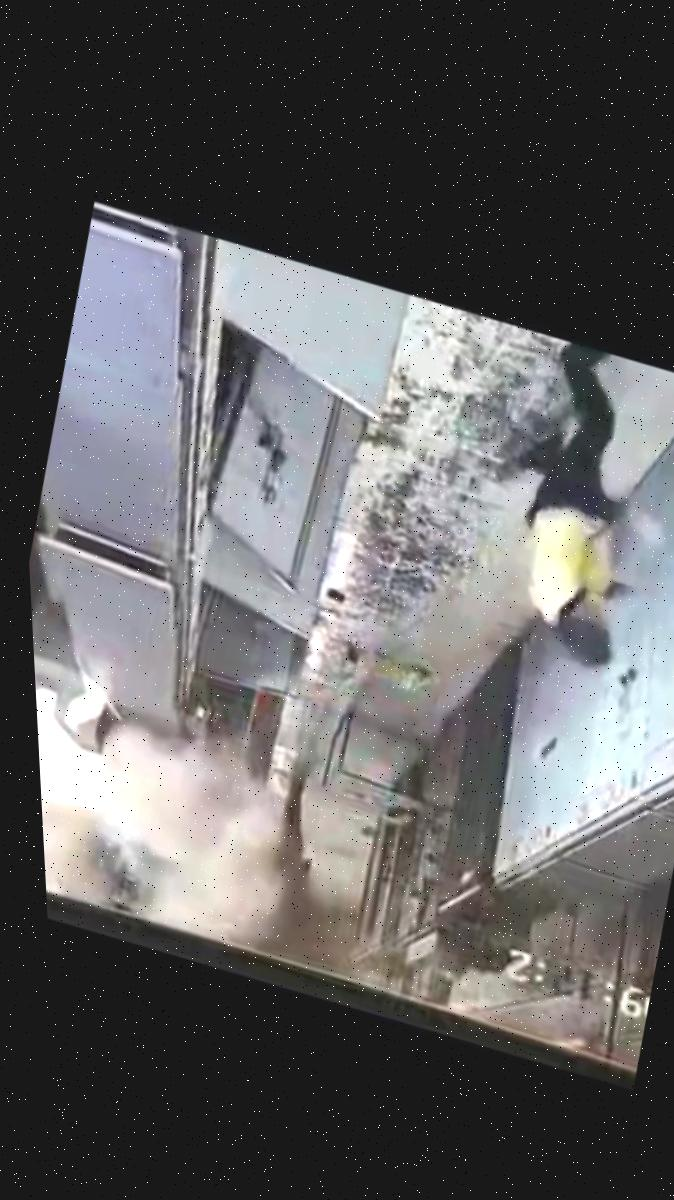smoke: (25, 637, 332, 945)
